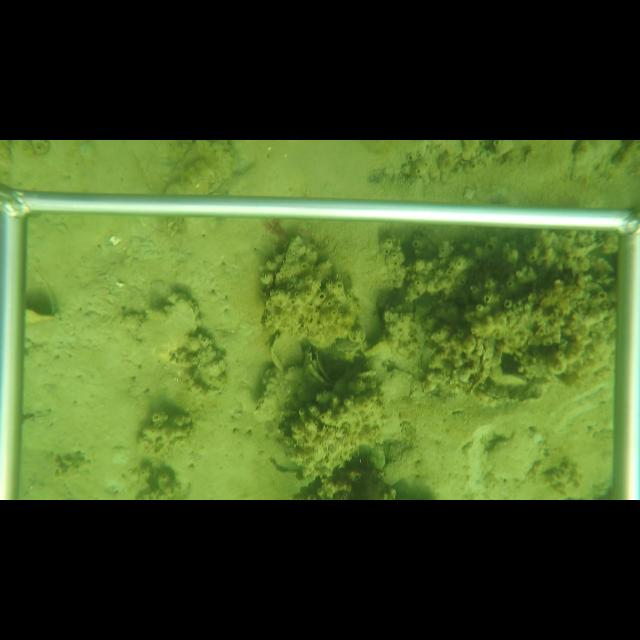Oyster-Closed: (138, 296, 198, 360)
Oyster-Open: (305, 344, 333, 388)
